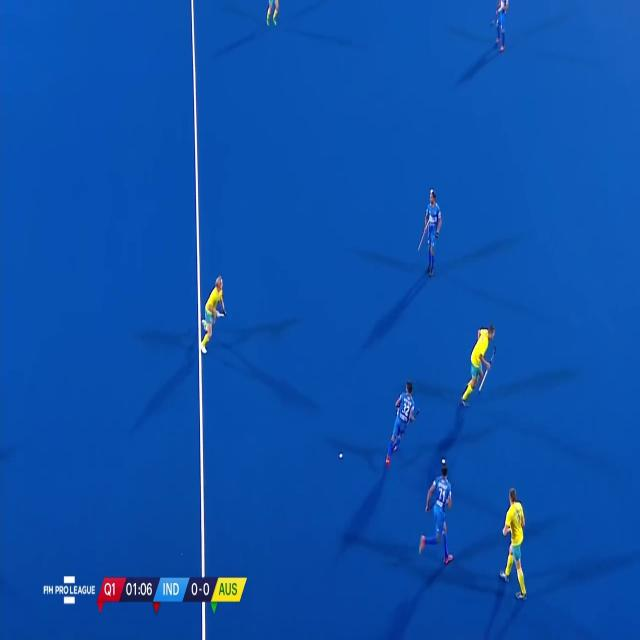ball: (336, 446, 345, 461)
